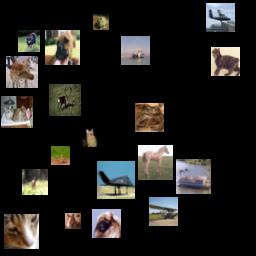airplane: (97, 161, 135, 199), (206, 3, 235, 32), (149, 197, 178, 226)
bird: (51, 146, 70, 165)
cat: (4, 214, 39, 249), (1, 96, 33, 128), (211, 47, 240, 76), (82, 128, 101, 147)
deer: (49, 84, 81, 116), (6, 56, 38, 88), (22, 169, 48, 195)
dog: (45, 30, 80, 65), (92, 209, 121, 238), (18, 30, 40, 52)
frog: (135, 103, 164, 132), (93, 14, 109, 30)
ship: (176, 159, 211, 194), (121, 36, 150, 65)
